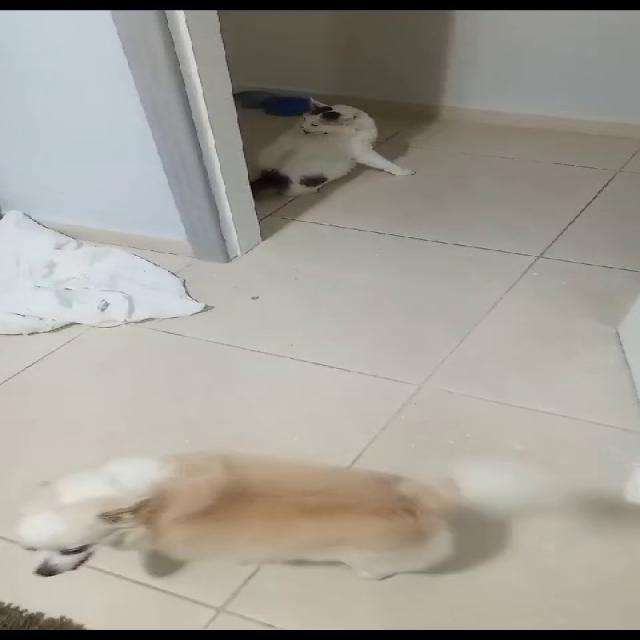Simba: (0, 444, 506, 627), (254, 94, 407, 205)
Theo: (0, 444, 506, 627)
